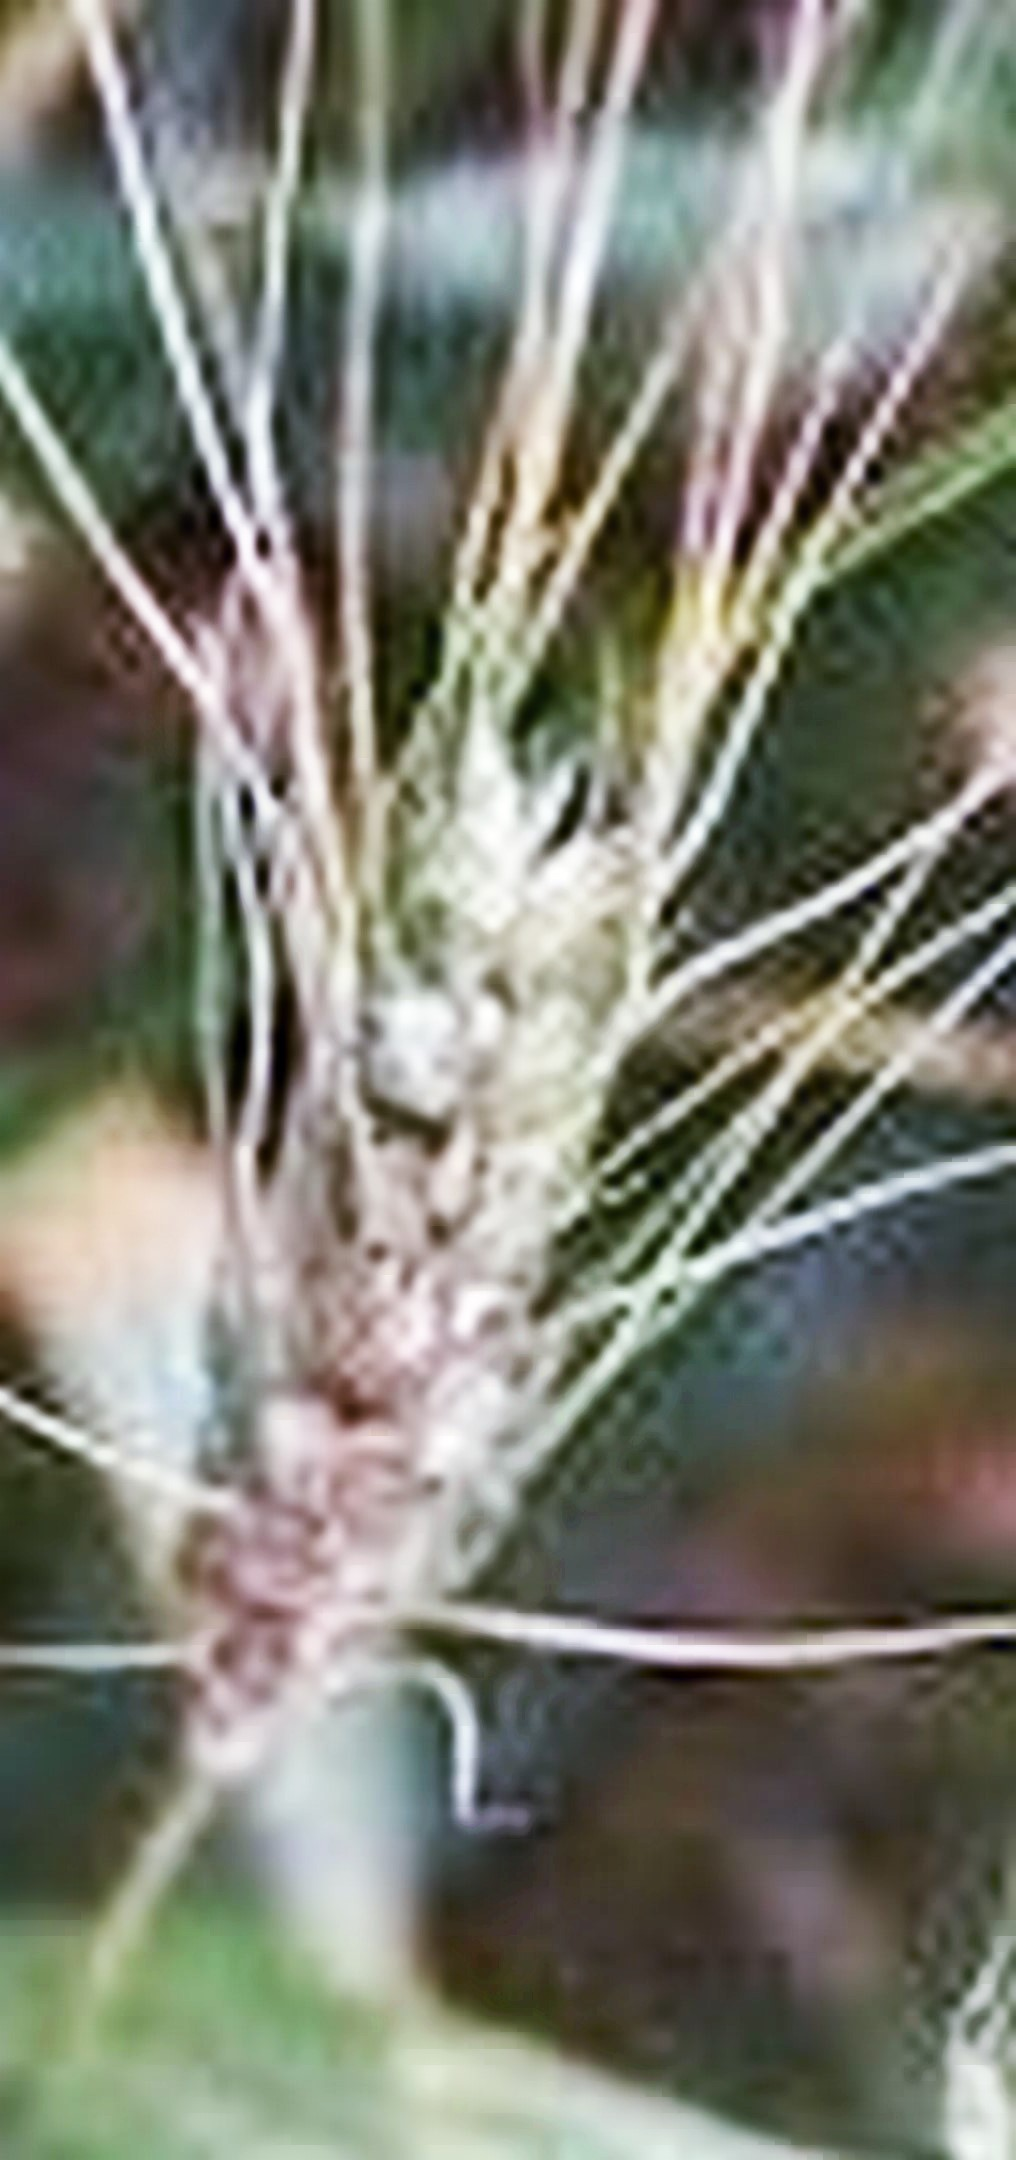Wheat scab: (184, 591, 699, 1756)
